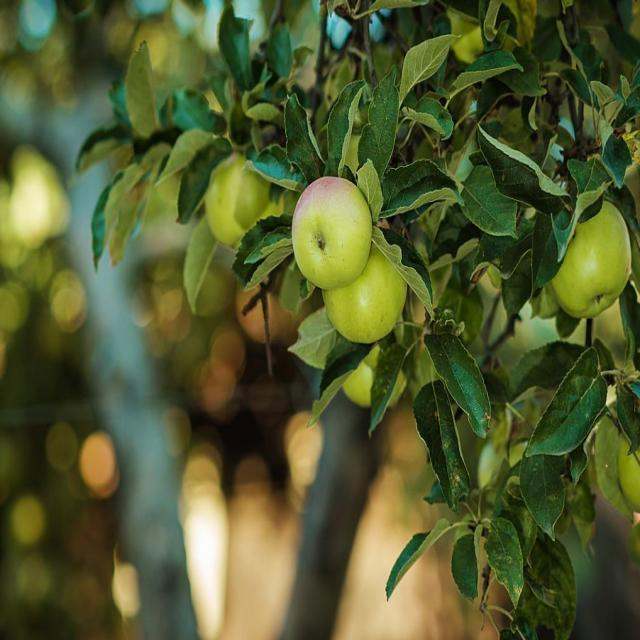Green Apple: (293, 175, 374, 289), (547, 208, 624, 317), (333, 235, 403, 339), (206, 152, 278, 237), (591, 404, 640, 505), (341, 327, 401, 404), (451, 5, 513, 65)
